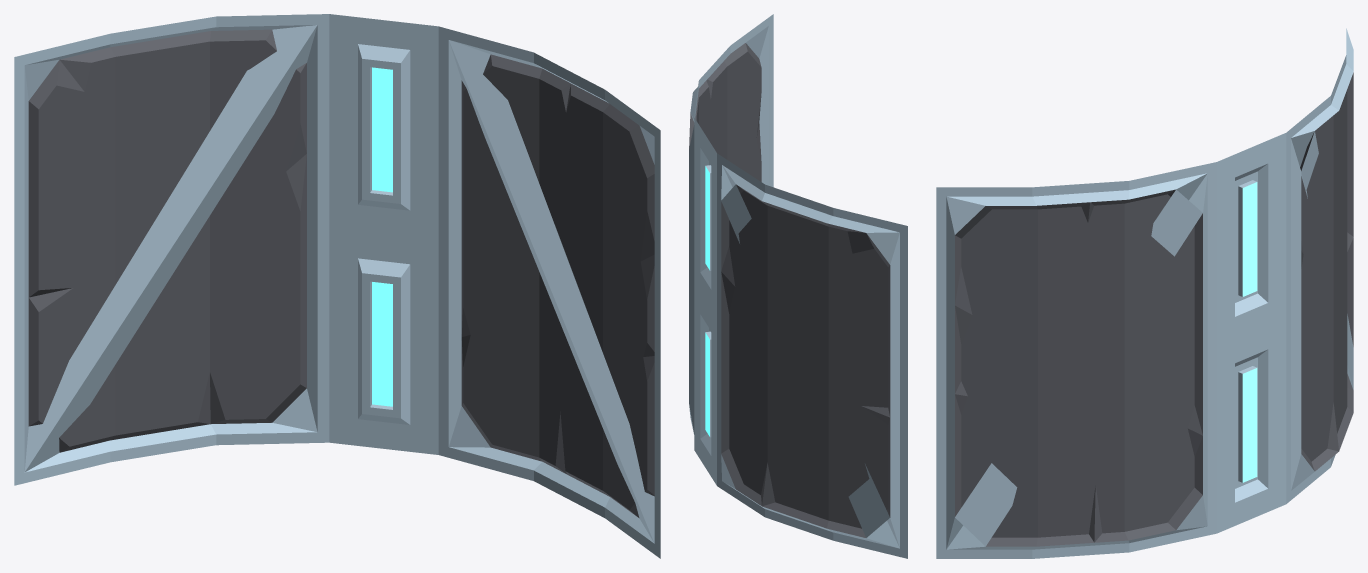
Rendered from Wall_Medium_Curved.fbx.
The picture shows the model from 3 angles, left to right: view 1: azimuth 30°, elevation 25°; view 2: azimuth 150°, elevation 25°; view 3: azimuth 270°, elevation 25°; orthographic projection. The views are drawn at different scales.
Parts seen in each view (by area): view 1: Wall_Medium_Curved; view 2: Wall_Medium_Curved; view 3: Wall_Medium_Curved.
Boxes of the visible parts, x1,y1,x2,y2 form: Wall_Medium_Curved: (14, 14, 660, 558); Wall_Medium_Curved: (689, 14, 907, 558); Wall_Medium_Curved: (936, 28, 1353, 558).
Size of the model in its own units: 8.15 by 8 by 8.15.
